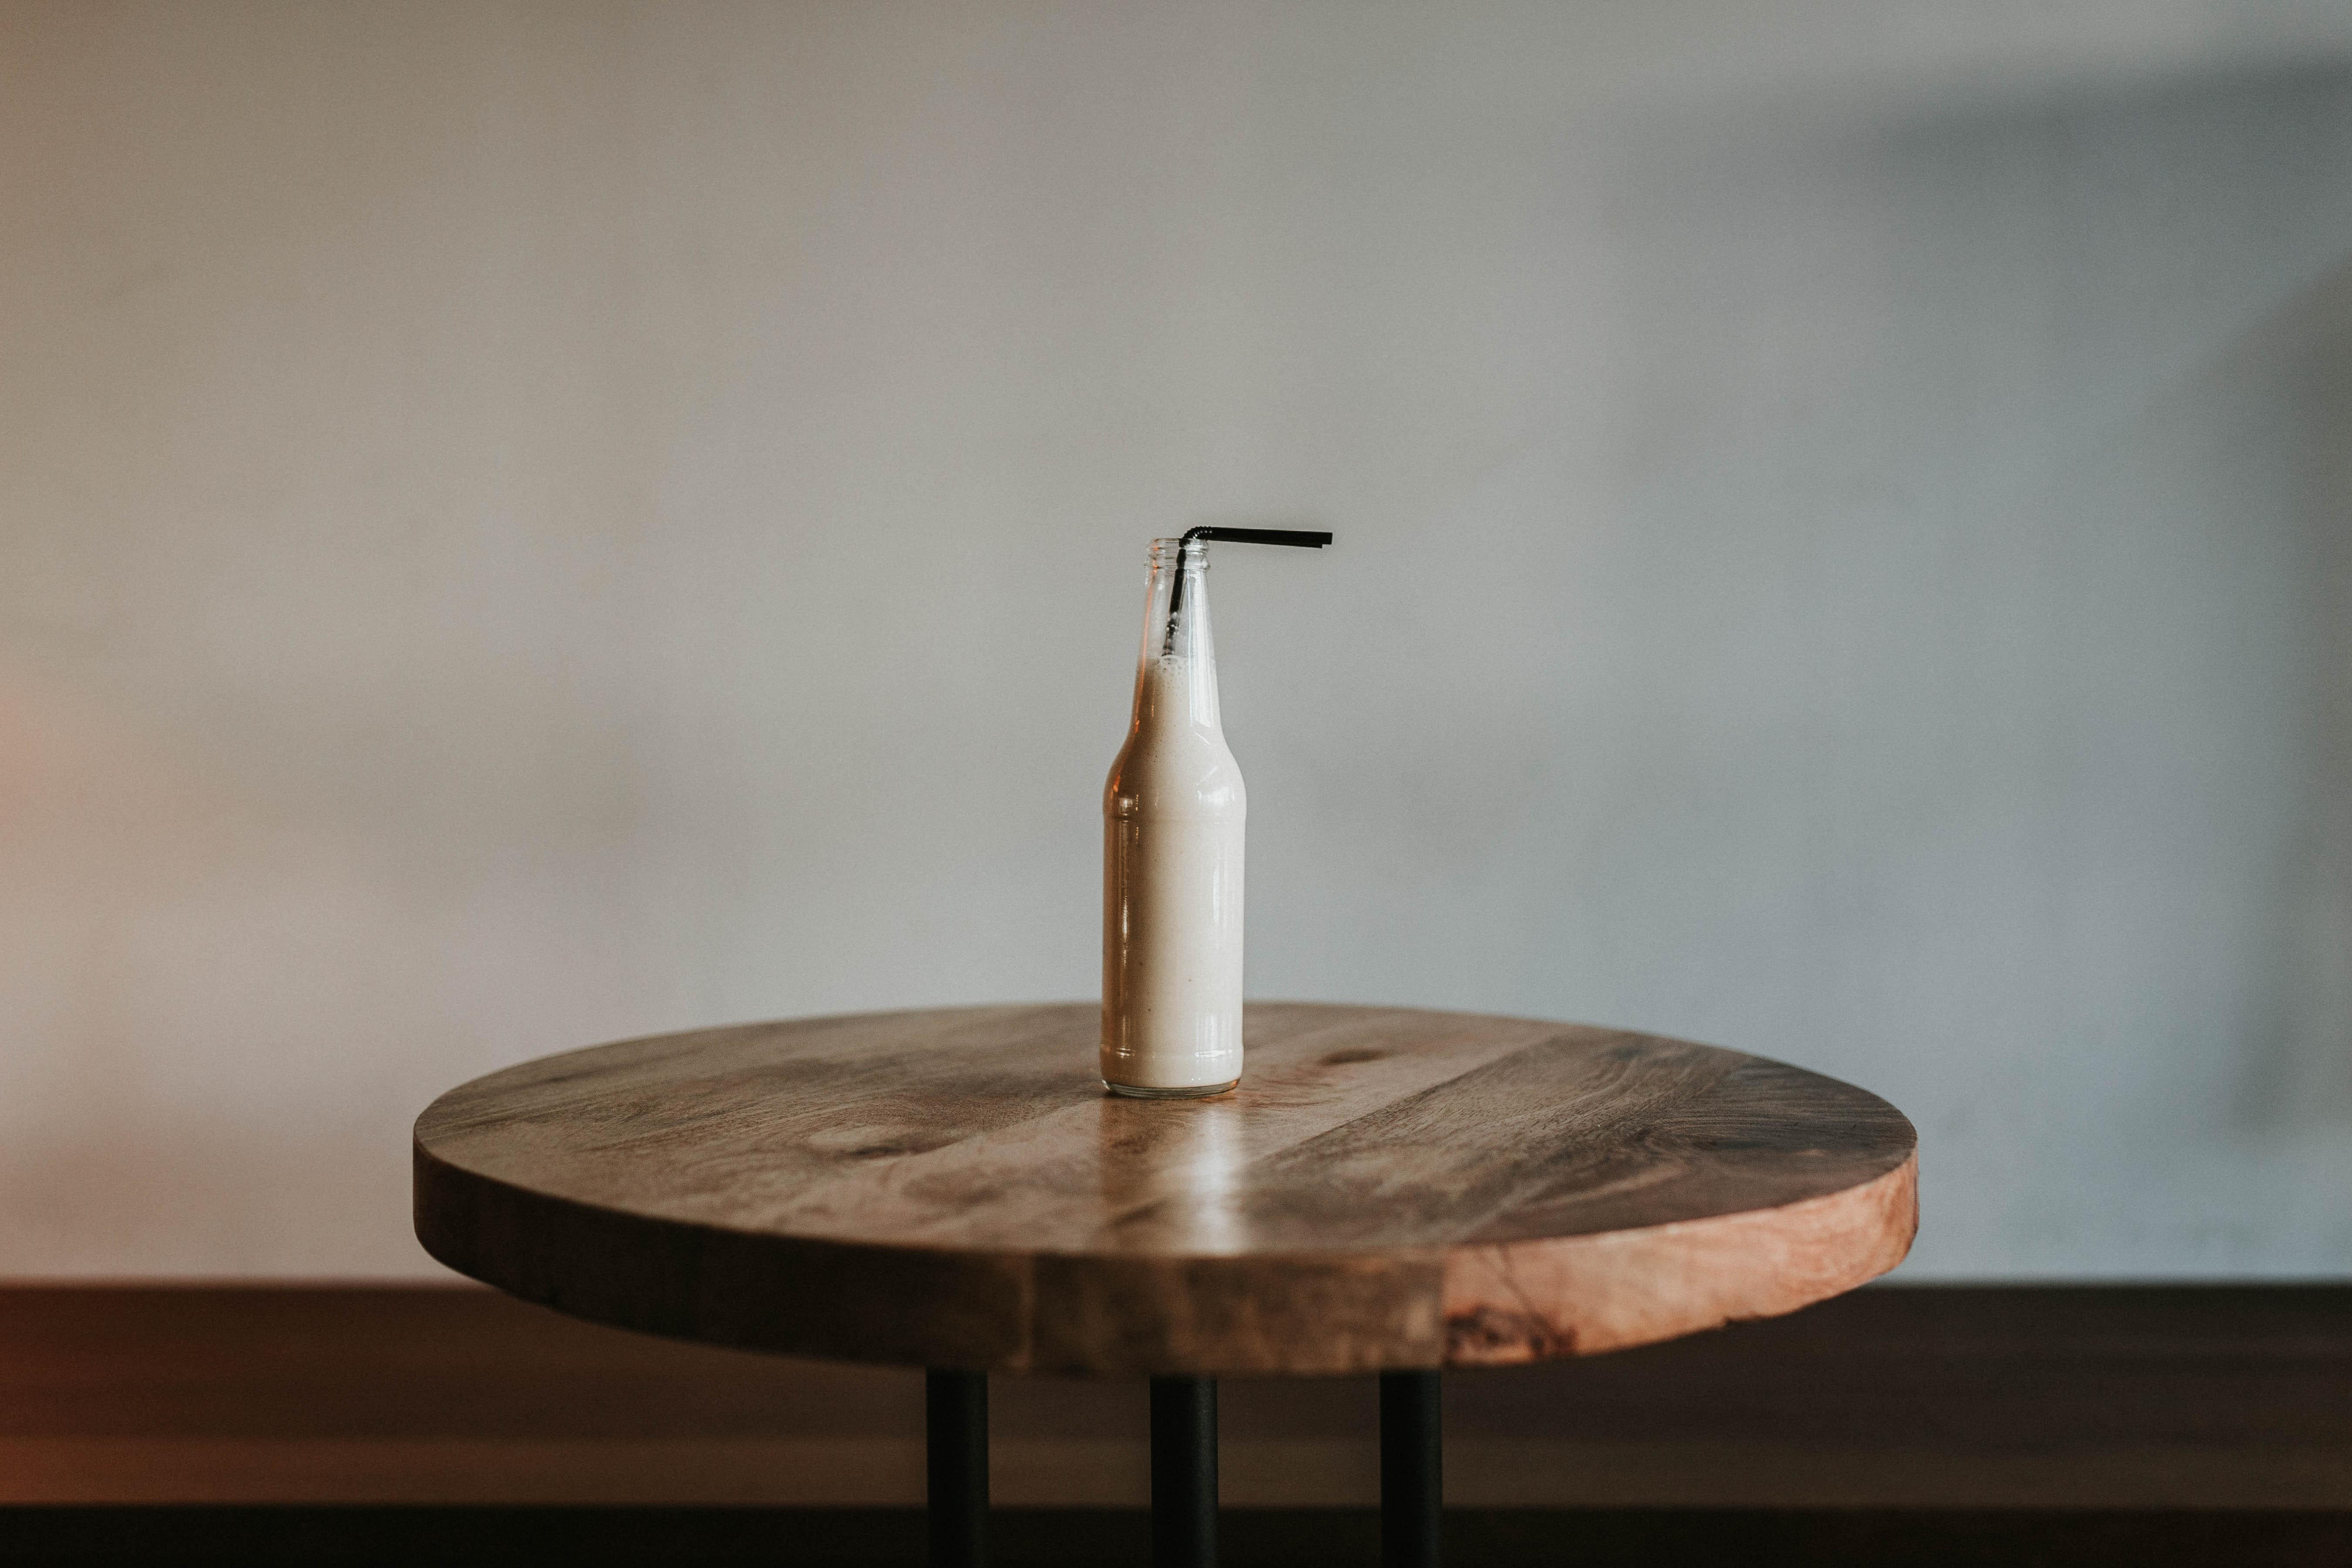desk: (315, 437, 1979, 1510)
